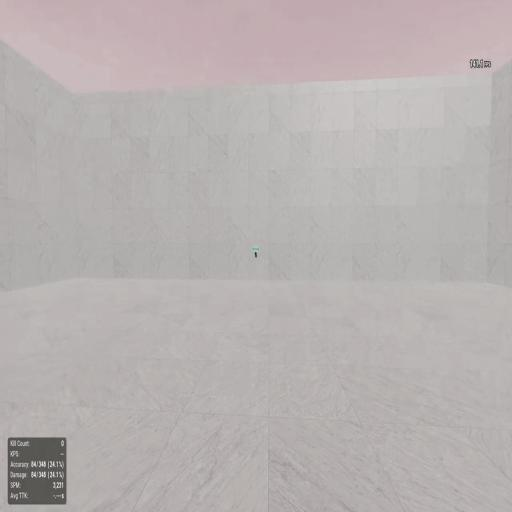Crosshair: (255, 254, 257, 258)
Target: (254, 251, 257, 256)
